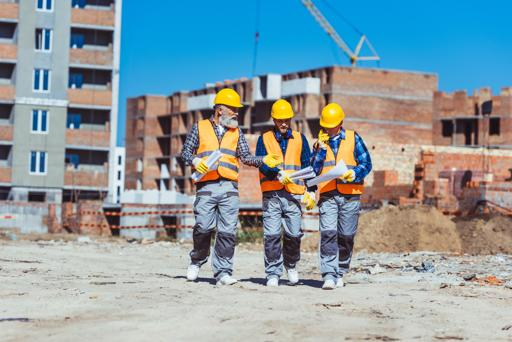safe person: (180, 88, 250, 281), (312, 99, 366, 287), (259, 99, 307, 282)
